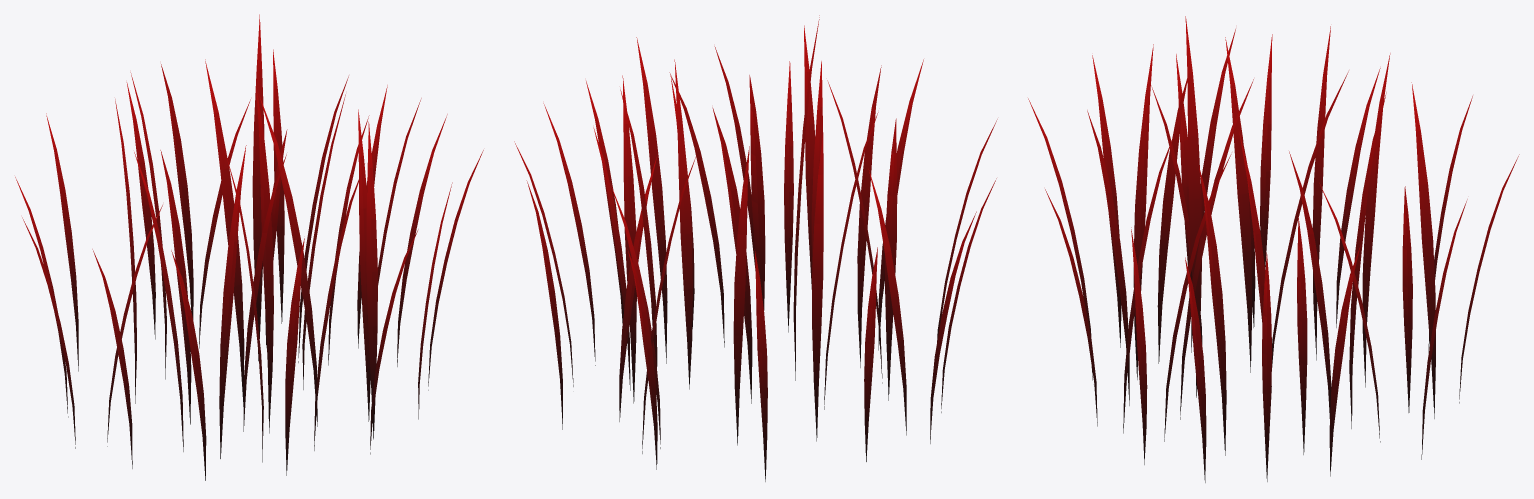
Rendered from Tall_Grass.fbx.
The picture shows the model from 3 angles, left to right: view 1: azimuth 30°, elevation 25°; view 2: azimuth 150°, elevation 25°; view 3: azimuth 270°, elevation 25°; orthographic projection. The views are drawn at different scales.
Visible parts, largest first — view 1: Grass; view 2: Grass; view 3: Grass.
Boxes of the visible parts, <box> form: Grass: <box>15,14,483,480</box>; Grass: <box>514,15,997,481</box>; Grass: <box>1028,16,1519,482</box>.
Size of the model in its own units: 1.69 by 1.36 by 1.61.
